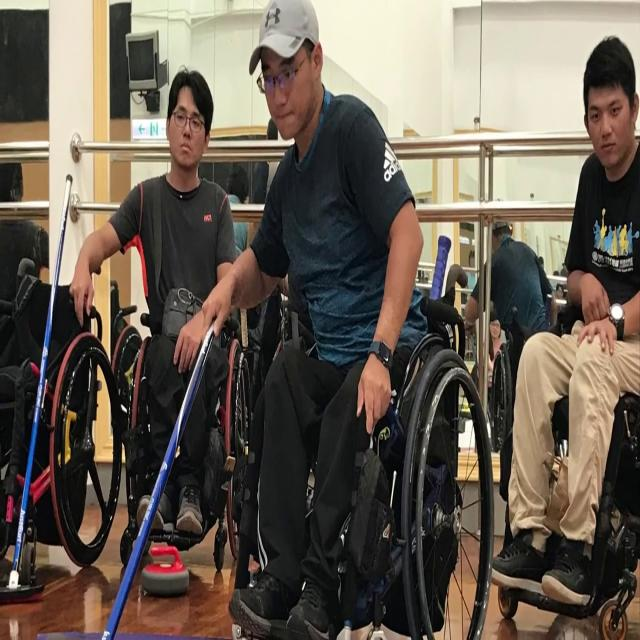wheelchairs: (236, 292, 506, 638), (113, 270, 265, 632), (507, 265, 640, 640), (1, 256, 131, 590)
